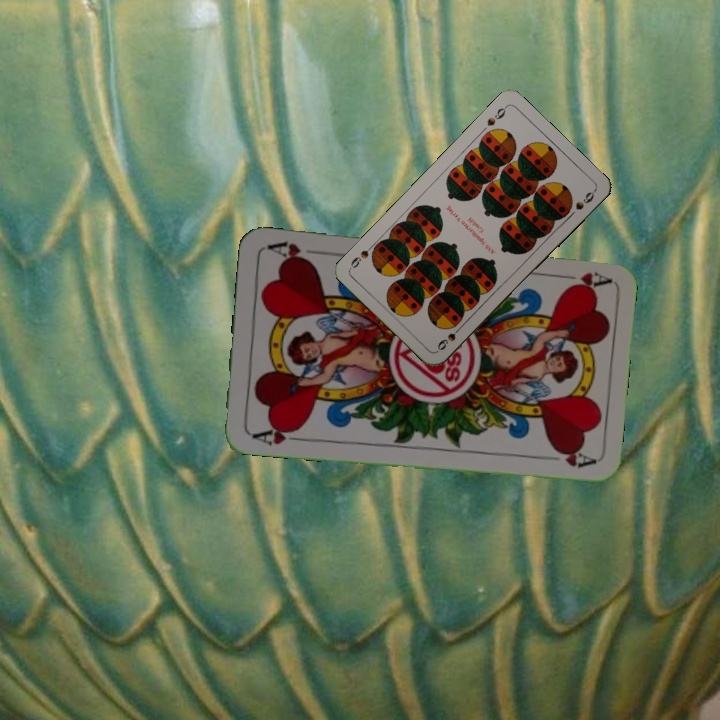HA: (247, 421, 305, 448), (552, 267, 612, 291)
S9: (433, 321, 465, 353), (483, 102, 509, 129)
